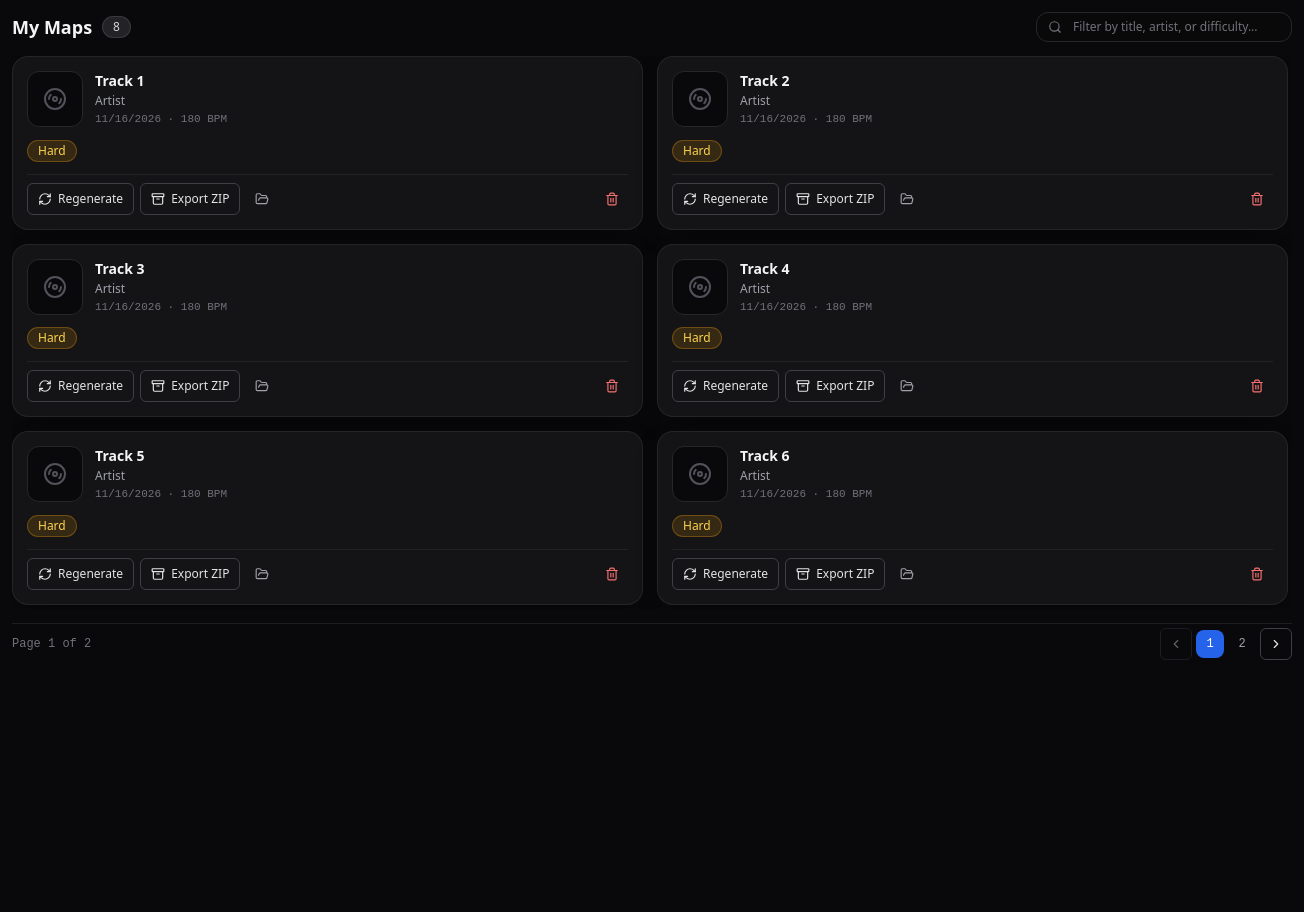
Test: LibraryView › filters by search query and paginates large libraries
The image size is (1304, 912).
Expected: the text "Track 1" is shown, [95, 71, 144, 90]
Expected: the text "Track 7" is not shown
Click the button named "next" at (1276, 644), box [1260, 628, 1292, 660]
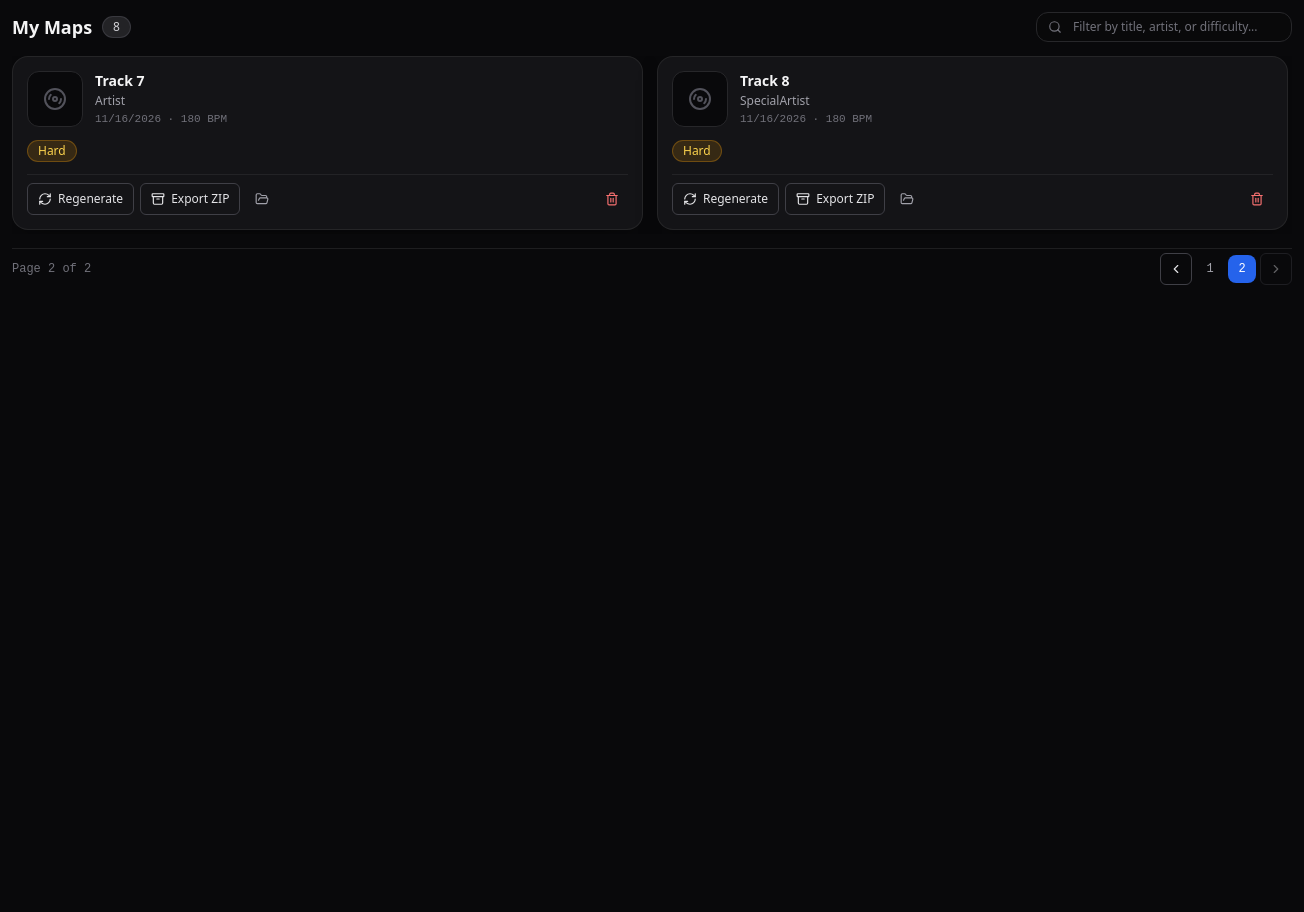
Expected: the text "Track 7" is shown, [95, 71, 144, 90]
Expected: the text "Track 1" is gone
Type "SpecialArtist" into the field with placeholder "Filter by title, artist, or difficulty..." at (1164, 27), box [1036, 12, 1292, 42]
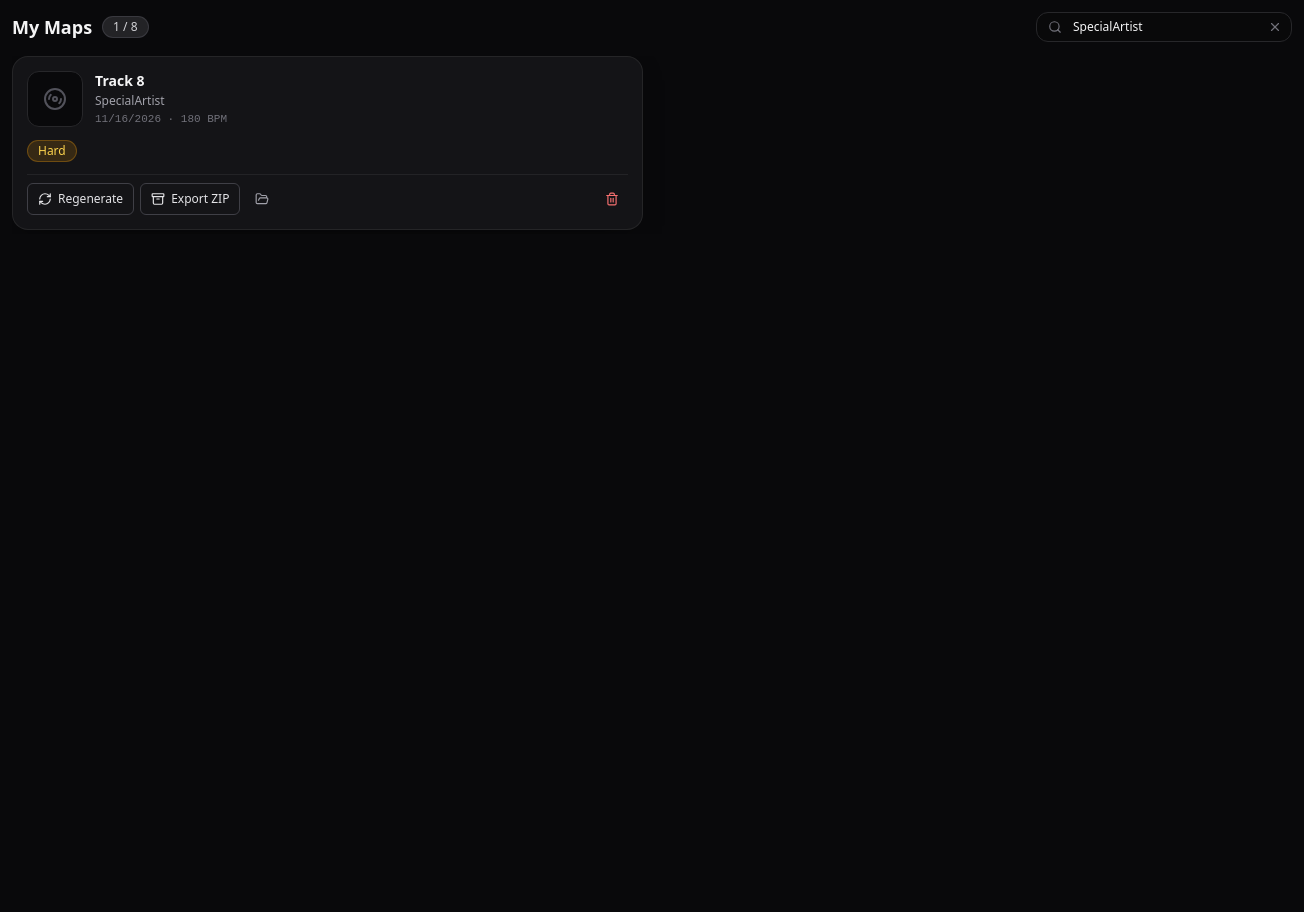
Expected: the text "Track 8" is shown, [95, 71, 144, 90]
Expected: the text "Track 7" is gone
